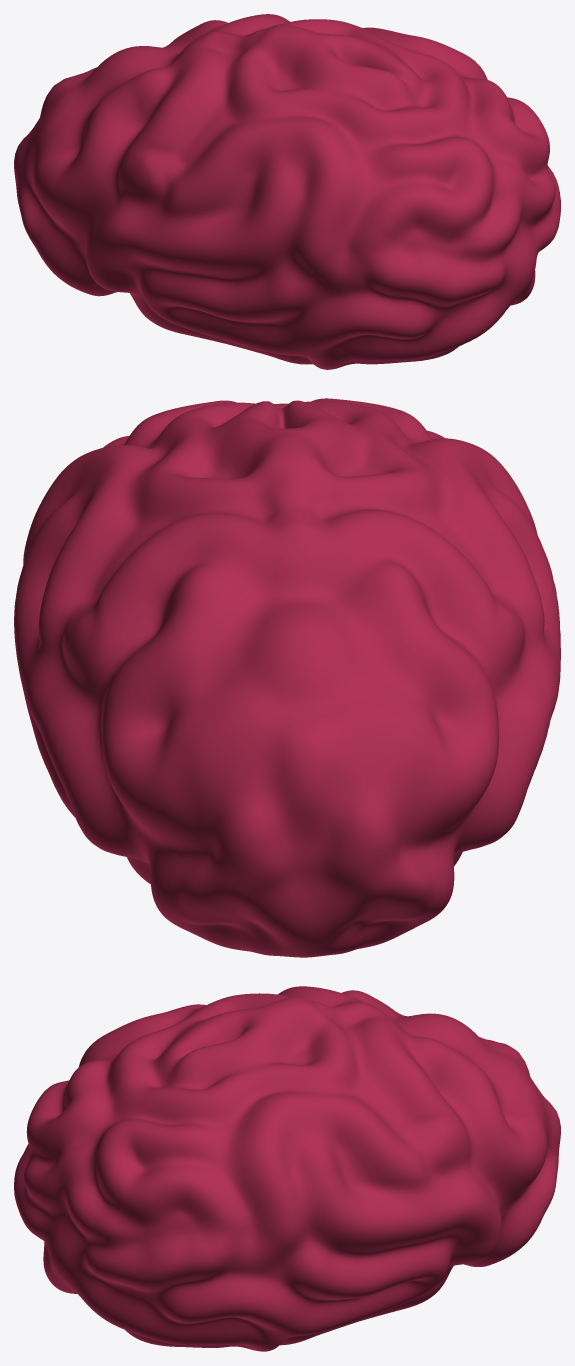
Rendered from BRAIN.fbx.
The picture shows the model from 3 angles, top to bottom: view 1: azimuth 30°, elevation 25°; view 2: azimuth 150°, elevation 25°; view 3: azimuth 270°, elevation 25°; orthographic projection. The views are drawn at different scales.
Parts seen in each view (by area): view 1: Cube; view 2: Cube; view 3: Cube.
Boxes of the visible parts, x1,y1,x2,y2 form: Cube: (14, 14, 560, 369); Cube: (14, 398, 560, 957); Cube: (14, 986, 560, 1351).
Size of the model in its own units: 333 by 241 by 384.
